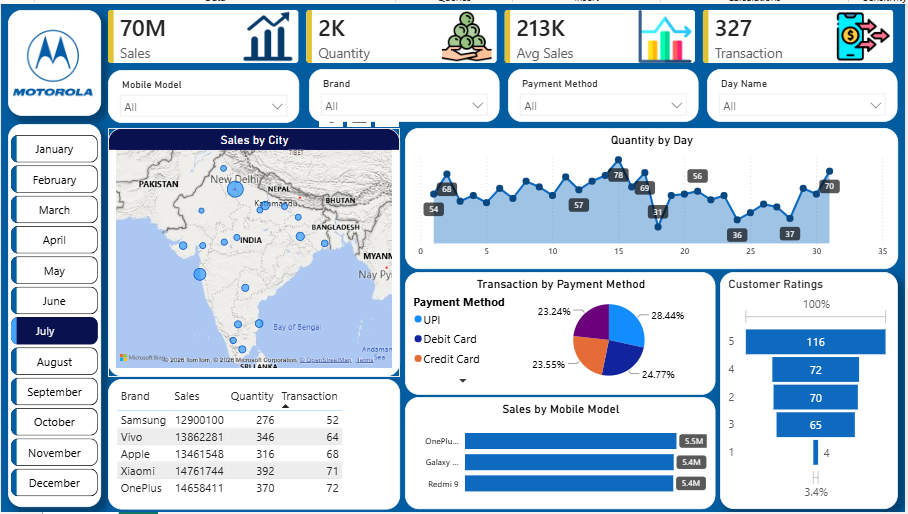

The page's visual inventory and layout, read from the dashboard file:
{"tool":"powerbi","page":{"name":"Page 1","canvas":[1280,720],"ordinal":0},"visuals":[{"type":"shape","box":[9.9,8.5,131.8,150.2],"z":0},{"type":"image","box":[9.9,26.9,127.6,113.4],"z":1000},{"type":"shape","box":[9.9,170.1,131.8,543],"z":2000},{"type":"listSlicer","fields":{"Values":["Mobile Sales Data.Date.Variation.Date Hierarchy.Month"]},"box":[14.2,185.7,123.3,518.7],"z":3000},{"type":"cardVisual","fields":{"Data":["Mobile Sales Data.Total Sales","Mobile Sales Data.Total Quantity","Mobile Sales Data.Average Sales","Mobile Sales Data.Transaction"]},"box":[151.9,8.7,1113.7,75.2],"z":4000},{"type":"map","fields":{"Category":["Mobile Sales Data.City"],"Size":["Mobile Sales Data.Sales"]},"box":[151.9,176.5,413.6,352],"z":5000},{"type":"areaChart","fields":{"Category":["Mobile Sales Data.Date.Variation.Date Hierarchy.Month","Mobile Sales Data.Date.Variation.Date Hierarchy.Day"],"Y":["Mobile Sales Data.Quantity"]},"box":[572.7,176.5,698.6,199.6],"z":6000},{"type":"pieChart","fields":{"Category":["Mobile Sales Data.Payment Method"],"Y":["Mobile Sales Data.Transaction"]},"box":[572.7,380.4,440,173.6],"z":7000},{"type":"barChart","fields":{"Category":["Mobile Sales Data.Mobile Model"],"Y":["Mobile Sales Data.Sales"]},"box":[572.7,556.8,439.7,159.1],"z":8000},{"type":"funnel","title":"Customer Ratings","fields":{"Y":["CountNonNull(Mobile Sales Data.Customer Ratings)"],"Category":["Mobile Sales Data.Customer Ratings"]},"box":[1019.7,380.4,251.7,335.5],"z":9000},{"type":"slicer","fields":{"Values":["Mobile Sales Data.Mobile Model"]},"box":[151.9,93,271,75.2],"z":10000},{"type":"slicer","fields":{"Values":["Mobile Sales Data.Day Name"]},"box":[1001,92.6,270.5,75.2],"z":11000},{"type":"slicer","fields":{"Values":["Mobile Sales Data.Payment Method"]},"box":[719,92.6,270.5,75.2],"z":12000},{"type":"slicer","fields":{"Values":["Mobile Sales Data.Brand"]},"box":[437,92.6,270.5,75.2],"z":13000},{"type":"tableEx","fields":{"Values":["Mobile Sales Data.Brand","Mobile Sales Data.Sales","Mobile Sales Data.Quantity","Mobile Sales Data.Transaction"]},"box":[151.9,530.8,413.6,185.1],"z":14000}]}

Visuals, with their boxes in screenshot pixels (x1, y1, x2, y2), scaled from the page's 1280x720 canvas onto the 908x514 screenshot:
shape: <bbox>7, 6, 101, 113</bbox>
image: <bbox>7, 19, 98, 100</bbox>
shape: <bbox>7, 121, 101, 509</bbox>
listSlicer - Mobile Sales Data.Date.Variation.Date Hierarchy.Month: <bbox>10, 133, 98, 503</bbox>
cardVisual - Mobile Sales Data.Total Sales x Mobile Sales Data.Total Quantity: <bbox>108, 6, 898, 60</bbox>
map - Mobile Sales Data.City x Mobile Sales Data.Sales: <bbox>108, 126, 401, 377</bbox>
areaChart - Mobile Sales Data.Date.Variation.Date Hierarchy.Month x Mobile Sales Data.Date.Variation.Date Hierarchy.Day: <bbox>406, 126, 902, 268</bbox>
pieChart - Mobile Sales Data.Payment Method x Mobile Sales Data.Transaction: <bbox>406, 272, 718, 395</bbox>
barChart - Mobile Sales Data.Mobile Model x Mobile Sales Data.Sales: <bbox>406, 397, 718, 511</bbox>
"Customer Ratings" funnel: <bbox>723, 272, 902, 511</bbox>
slicer - Mobile Sales Data.Mobile Model: <bbox>108, 66, 300, 120</bbox>
slicer - Mobile Sales Data.Day Name: <bbox>710, 66, 902, 120</bbox>
slicer - Mobile Sales Data.Payment Method: <bbox>510, 66, 702, 120</bbox>
slicer - Mobile Sales Data.Brand: <bbox>310, 66, 502, 120</bbox>
tableEx - Mobile Sales Data.Brand x Mobile Sales Data.Sales: <bbox>108, 379, 401, 511</bbox>
